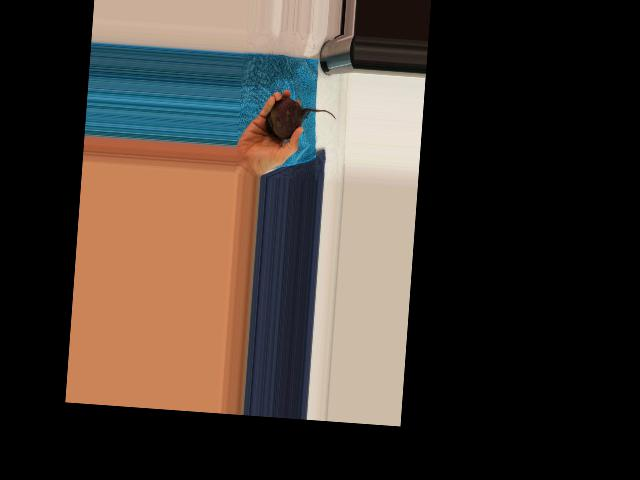beet: (263, 95, 336, 142)
